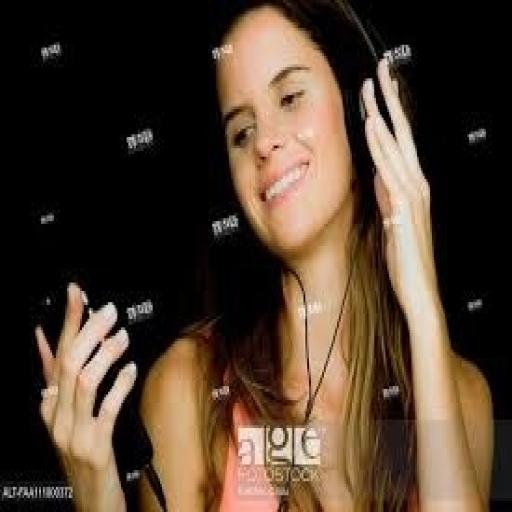texting: (34, 0, 497, 509)
